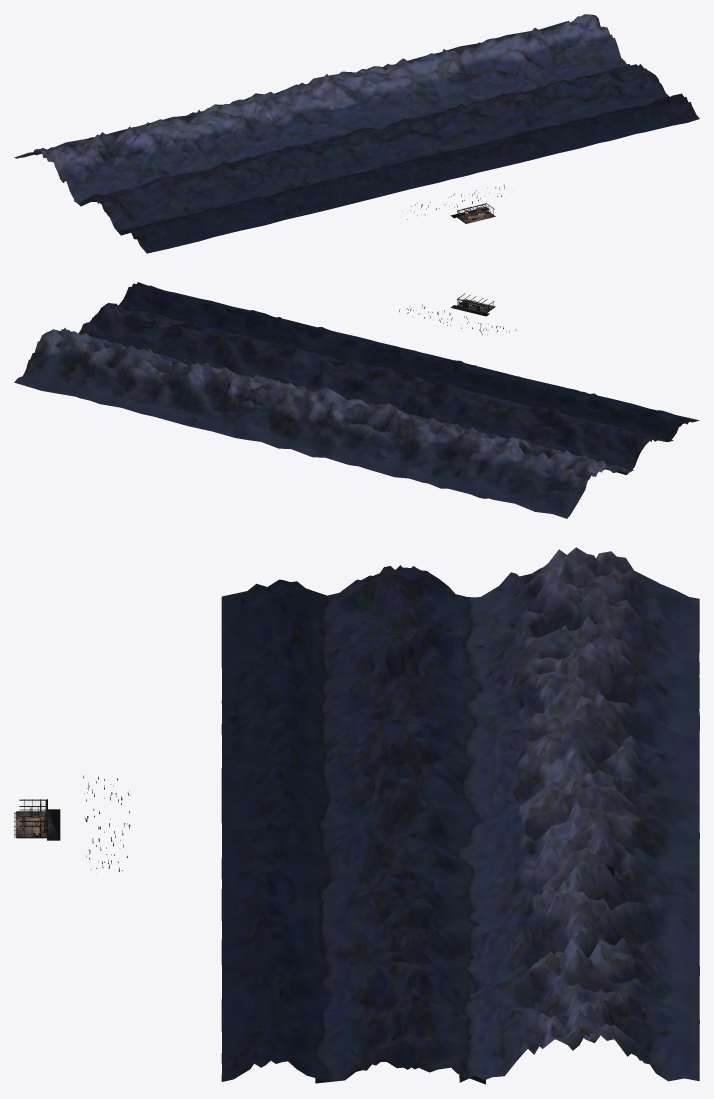
The model's file is studio-mobile.glb.
3 views of the same model, one above another, from view 1: azimuth 30°, elevation 25°; view 2: azimuth 150°, elevation 25°; view 3: azimuth 270°, elevation 25° (orthographic). The views are drawn at different scales.
Parts seen in each view (by area): view 1: Kinetic / exterior, Kinetic / architecture; view 2: Kinetic / exterior; view 3: Kinetic / exterior, Kinetic / architecture.
Boxes of the visible parts, <box> form: Kinetic / exterior: <box>14,14,699,253</box>; Kinetic / architecture: <box>456,203,495,223</box>; Kinetic / exterior: <box>14,282,699,518</box>; Kinetic / exterior: <box>47,547,699,1084</box>; Kinetic / architecture: <box>14,799,51,838</box>.
Bounding box in the file's own units: 431 × 28.16 × 257.
14 materials, 9 textured.
